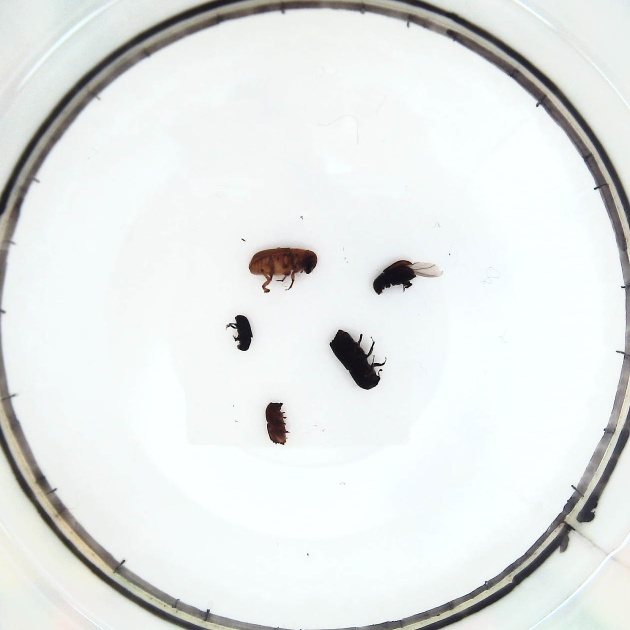armandi: (369, 259, 441, 292)
boerner: (329, 326, 388, 392)
coleoptera: (224, 313, 256, 353)
leconte: (250, 247, 322, 292)
linnaeus: (263, 399, 290, 448)
